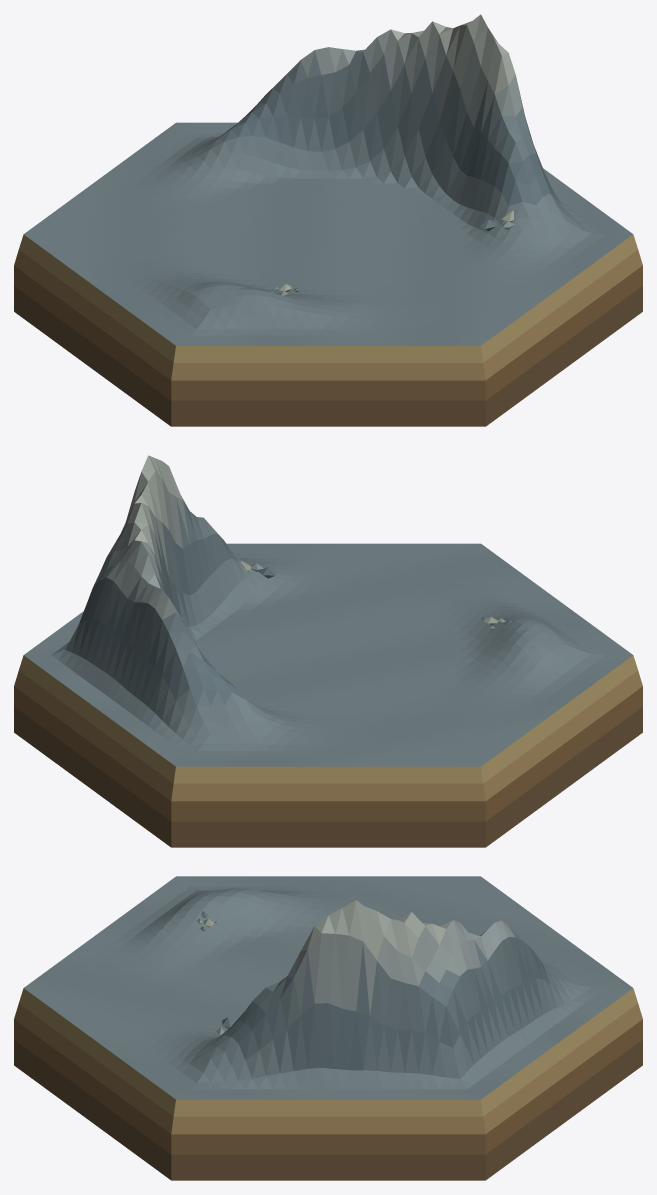
The model's file is catan_terrain_ore_02.glb.
3 views of the same model, one above another, from view 1: azimuth 30°, elevation 25°; view 2: azimuth 150°, elevation 25°; view 3: azimuth 270°, elevation 25° (orthographic).
Parts seen in each view (by area): view 1: catan_terrain_ore_02_ground; view 2: catan_terrain_ore_02_ground; view 3: catan_terrain_ore_02_ground.
Part boxes in pixels (x1,y1,x2,y2): catan_terrain_ore_02_ground: (14, 14, 642, 426); catan_terrain_ore_02_ground: (14, 455, 642, 847); catan_terrain_ore_02_ground: (14, 876, 642, 1180).
Size of the model in its own units: 1.71 by 0.8529 by 1.97.
